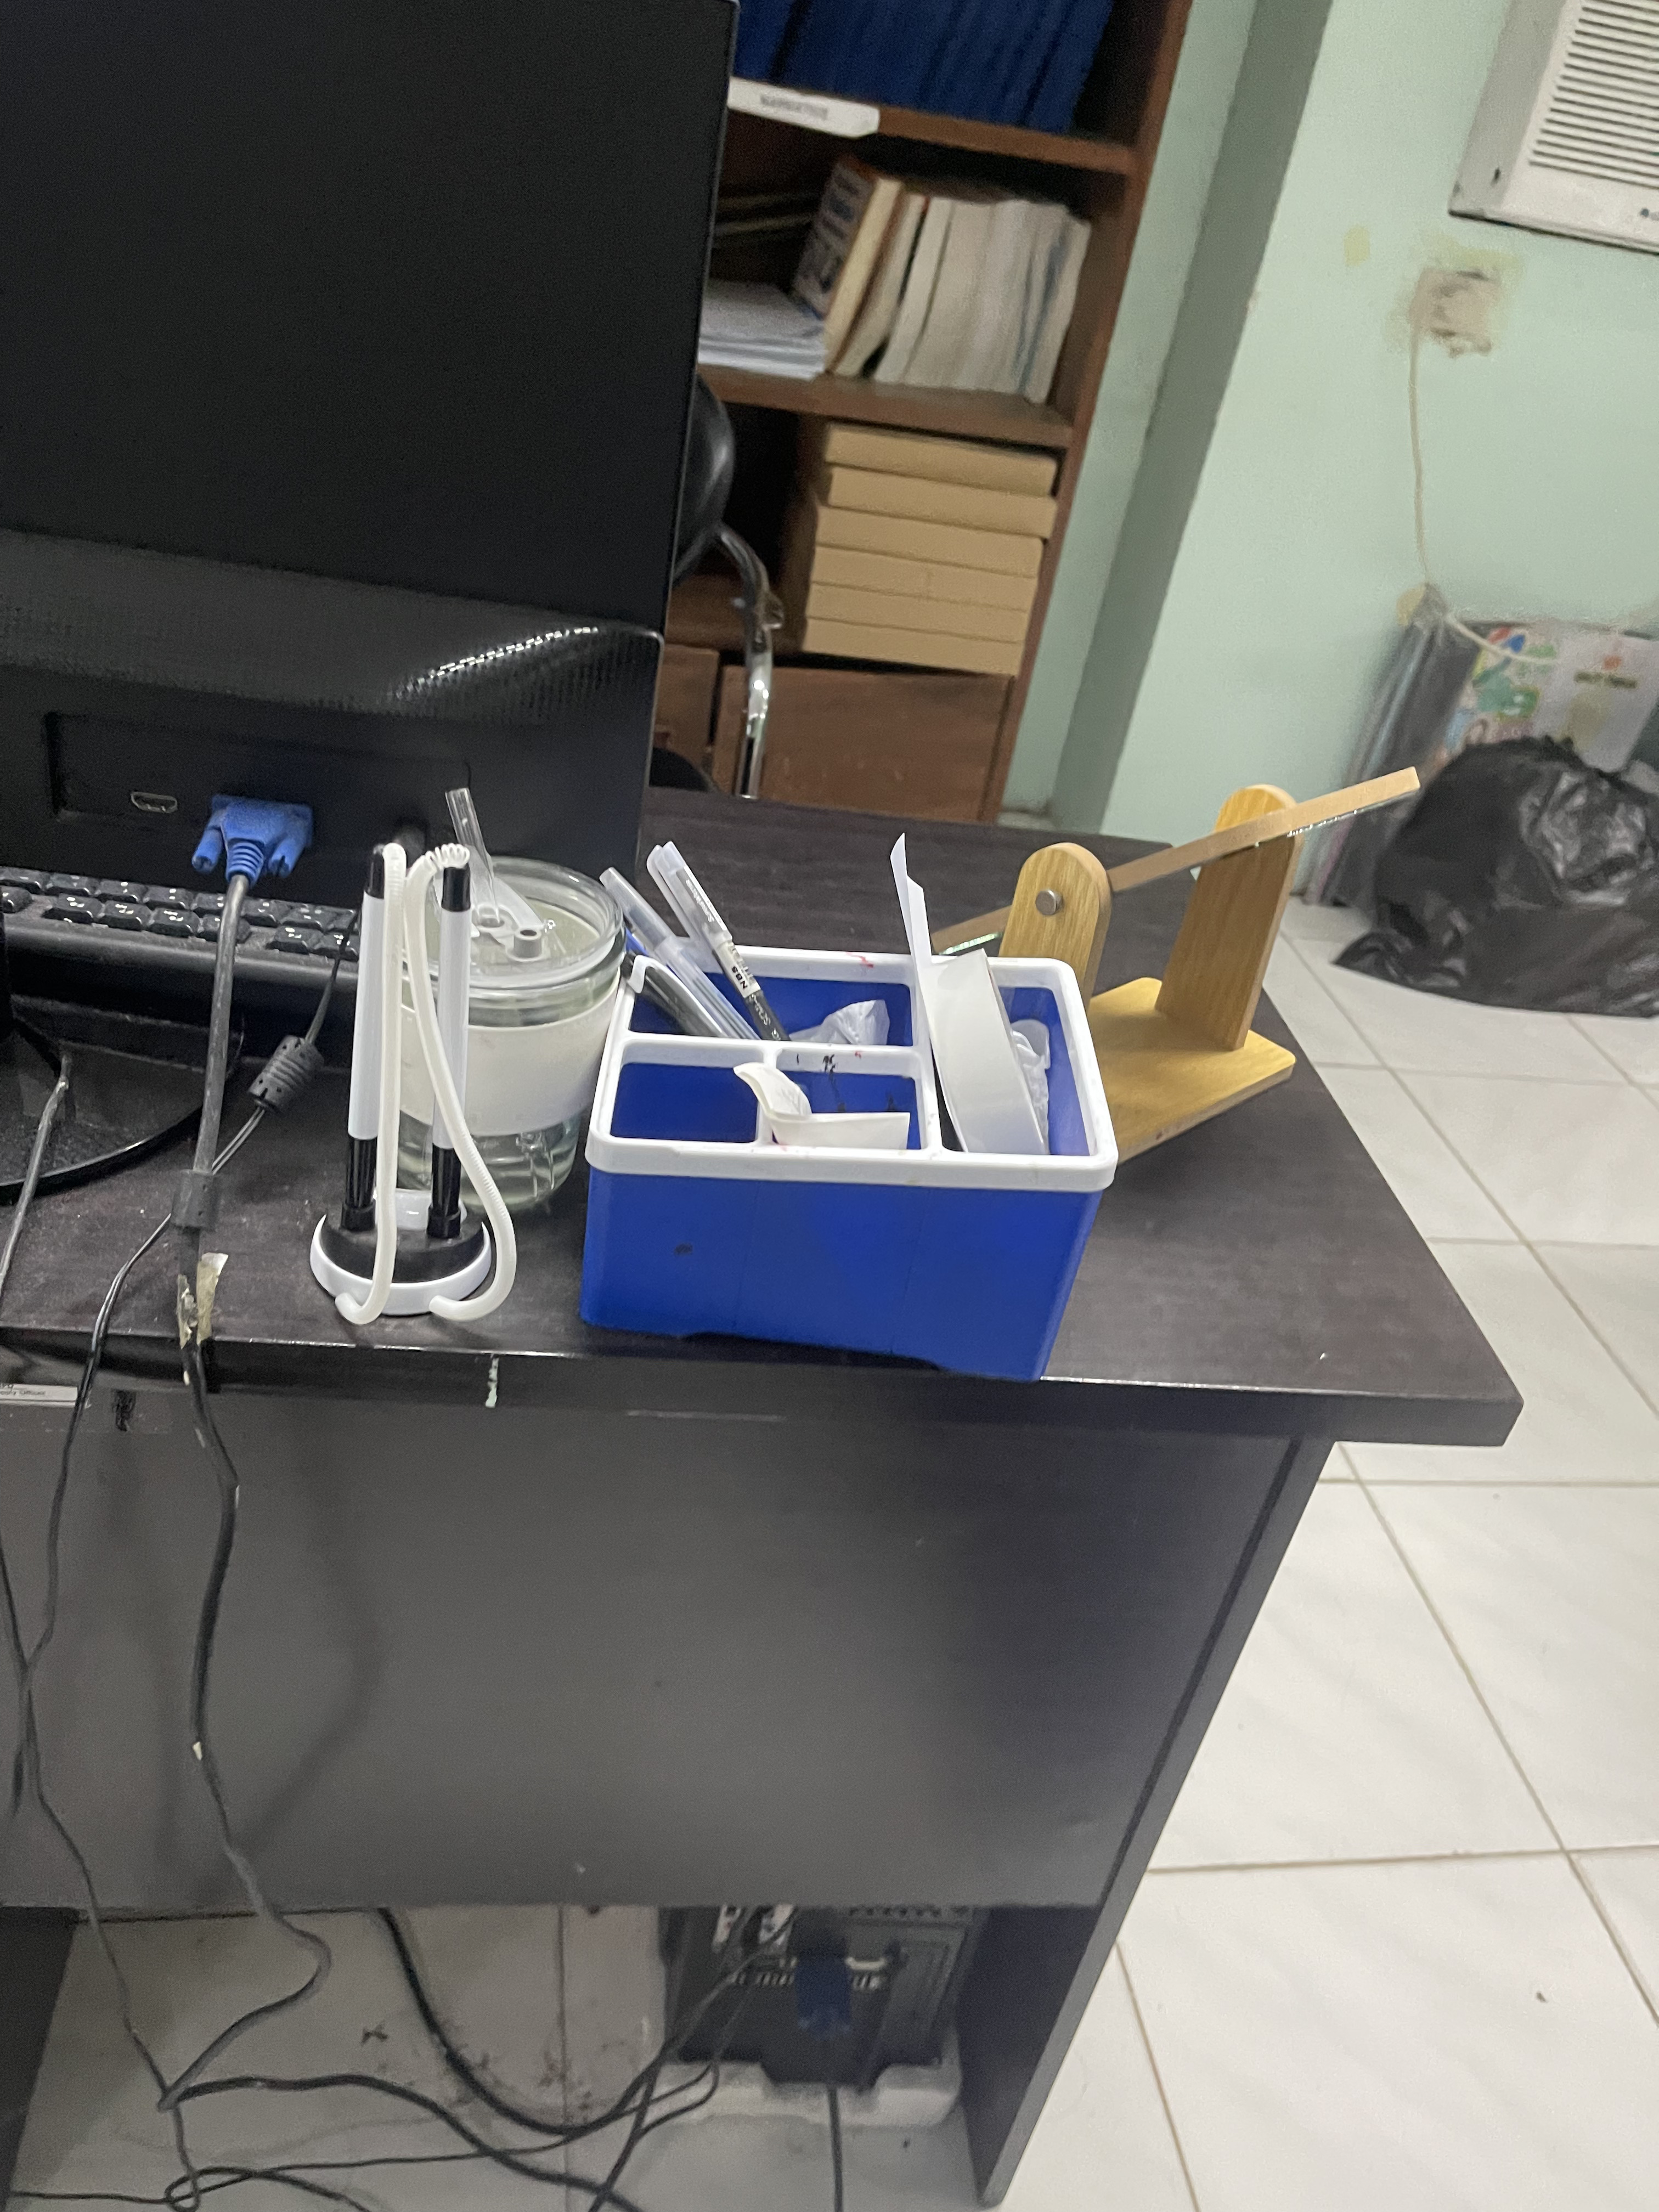table1: (14, 740, 1527, 2195)
